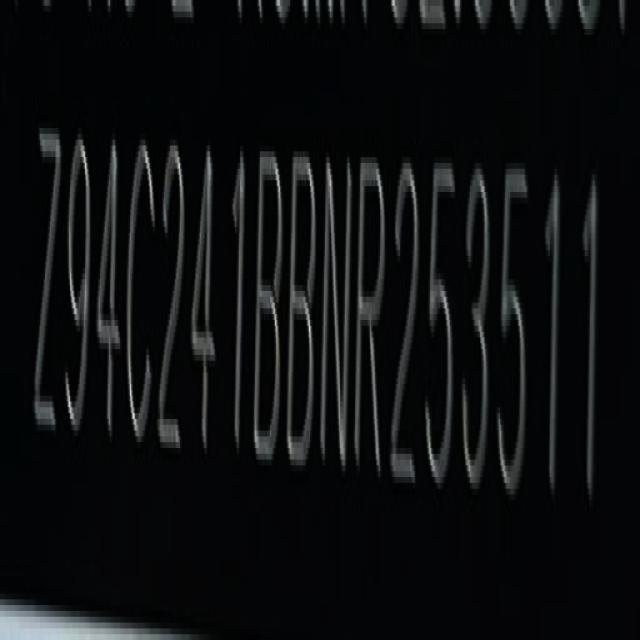1: (580, 171, 604, 525), (544, 161, 566, 521), (224, 139, 248, 467)
2: (392, 149, 424, 496), (157, 132, 187, 460)
3: (462, 159, 492, 503)
4: (192, 136, 221, 463), (97, 128, 125, 448)
5: (500, 153, 533, 513), (426, 152, 457, 504)
9: (65, 127, 92, 448)
B: (290, 140, 320, 477), (255, 138, 285, 470)
C: (127, 132, 157, 459)
N: (321, 142, 354, 480)
R: (352, 147, 390, 500)
Z: (35, 122, 63, 446)
